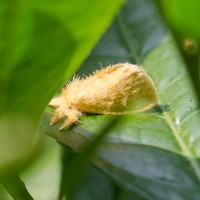insect: (49, 63, 156, 129)
